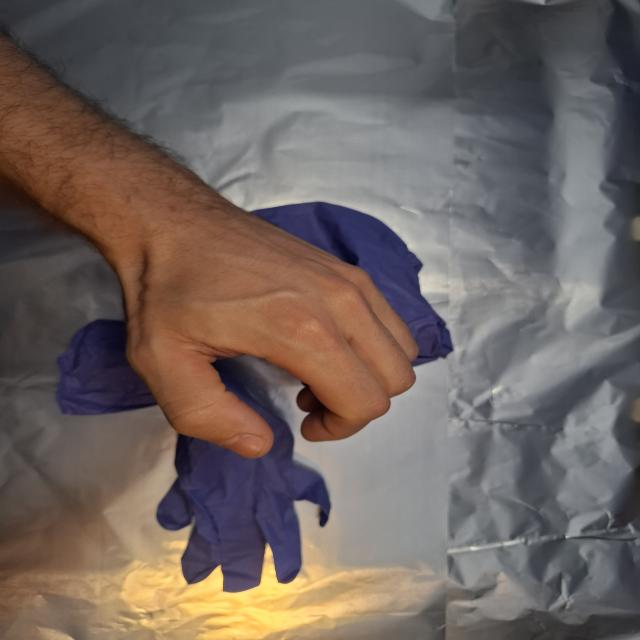glove_off: (109, 214, 424, 460)
